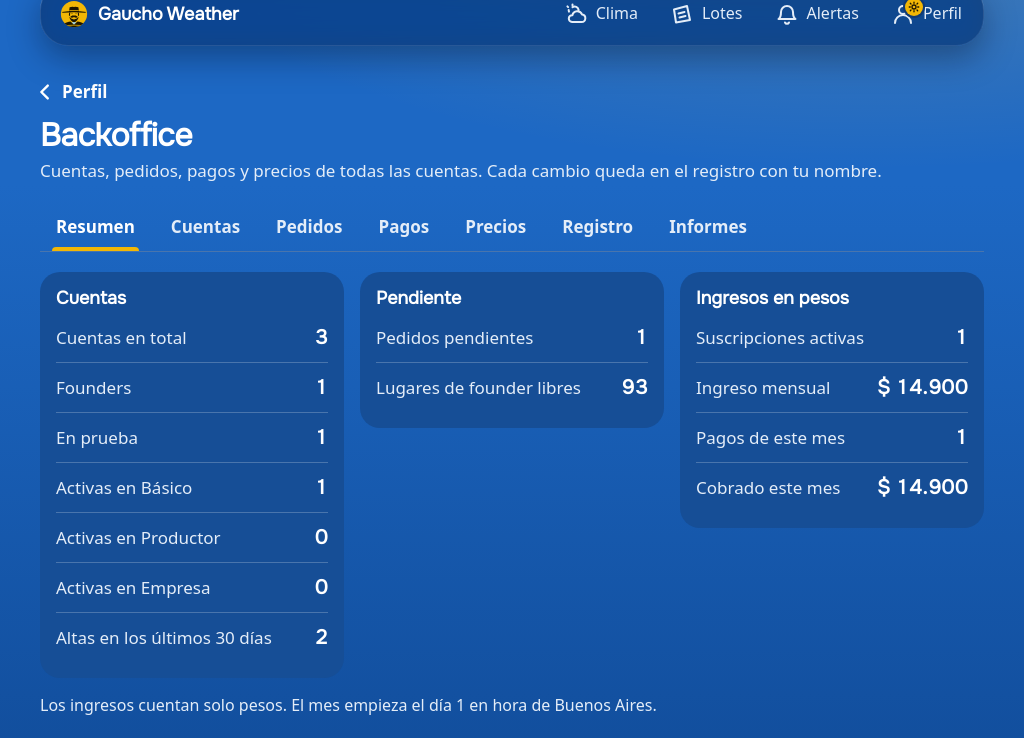
Scheduled price changes (avisos-cambios S4) › keeps the dialog open with the API message for a date too soon
Click the tab "Precios" at [496, 227], box top-left (449, 203), bottom-right (542, 251)
(page scrolled)
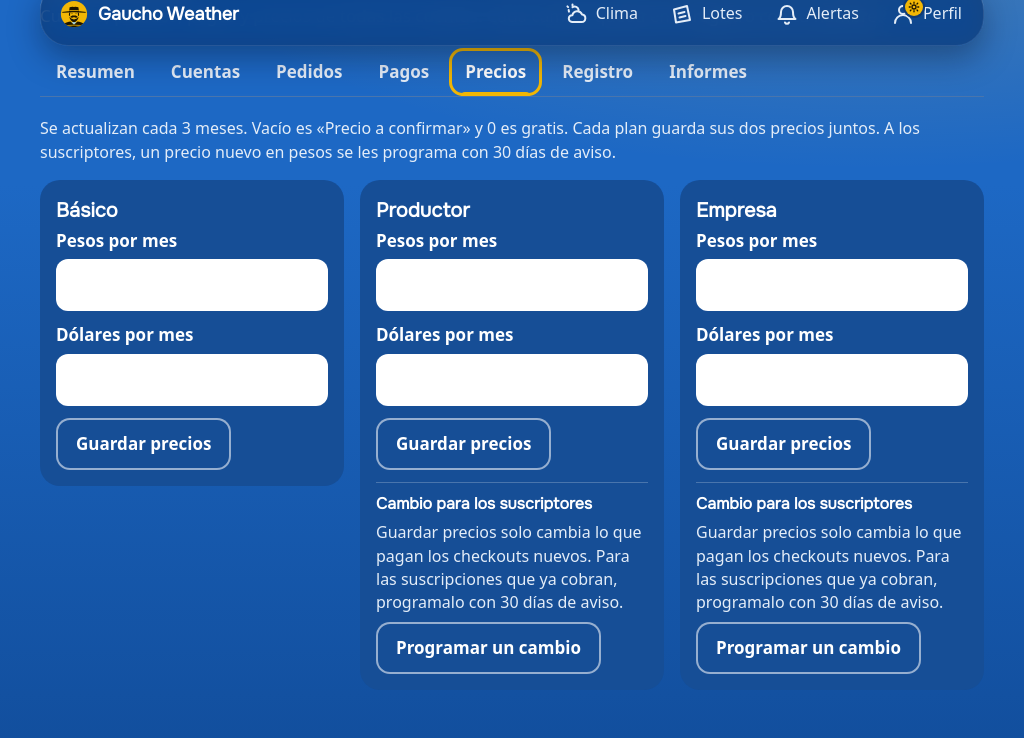
Click the 1st button "Programar un cambio" at [488, 648], box top-left (376, 622), bottom-right (601, 674)
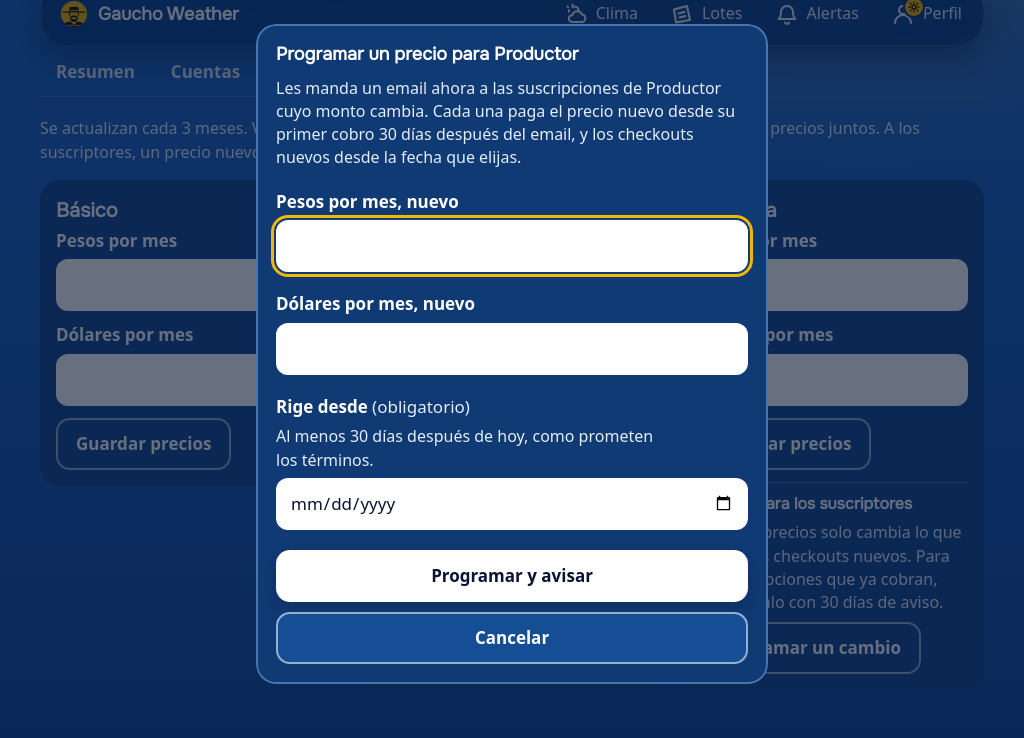
Type "16900" into the field labelled "Pesos por mes, nuevo" at [512, 246], box top-left (276, 220), bottom-right (748, 272)
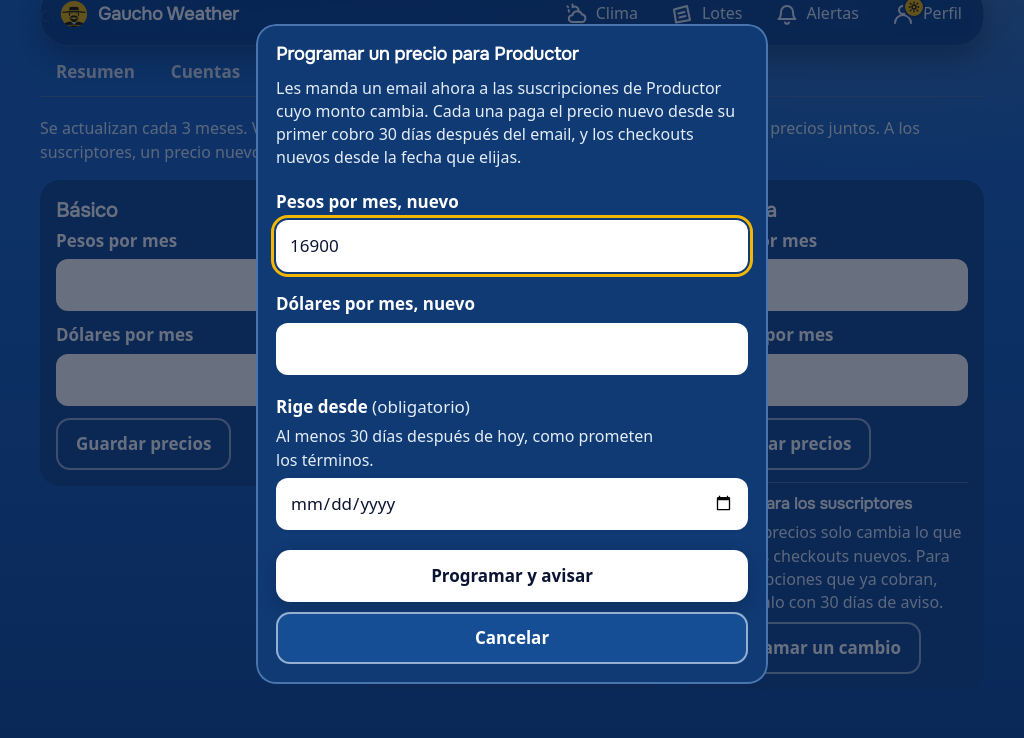
Type "12" into the field labelled "Dólares por mes, nuevo" at [512, 349], box top-left (276, 323), bottom-right (748, 375)
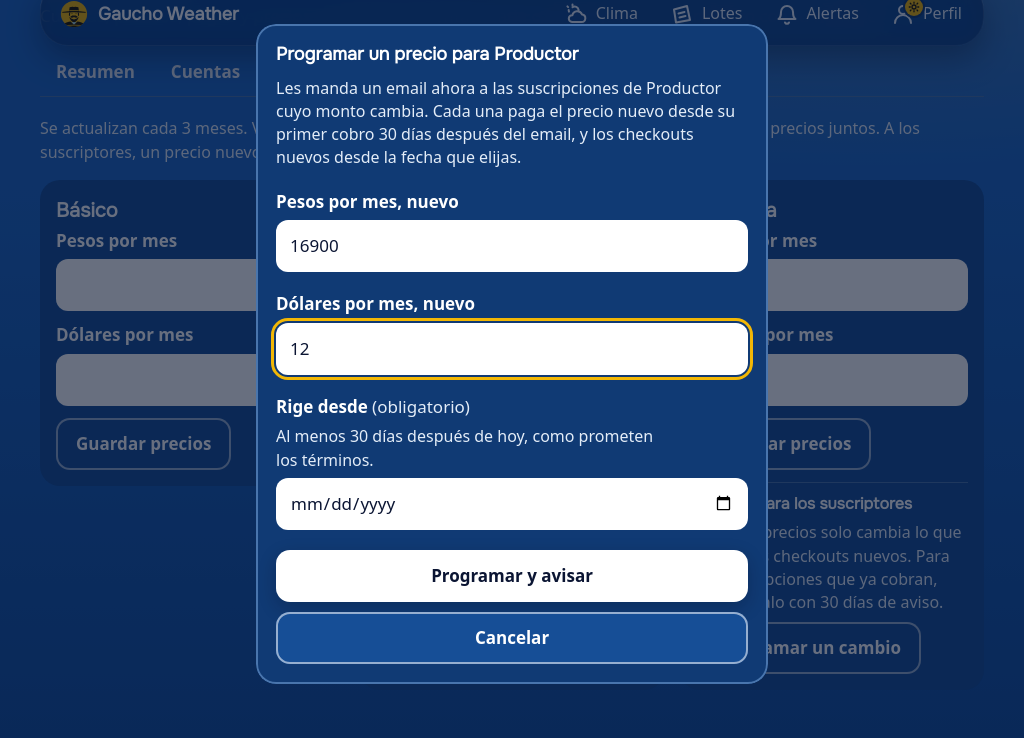
Type "2020-01-01" into the date field labelled "Rige desde (obligatorio)" at [512, 504], box top-left (276, 478), bottom-right (748, 530)
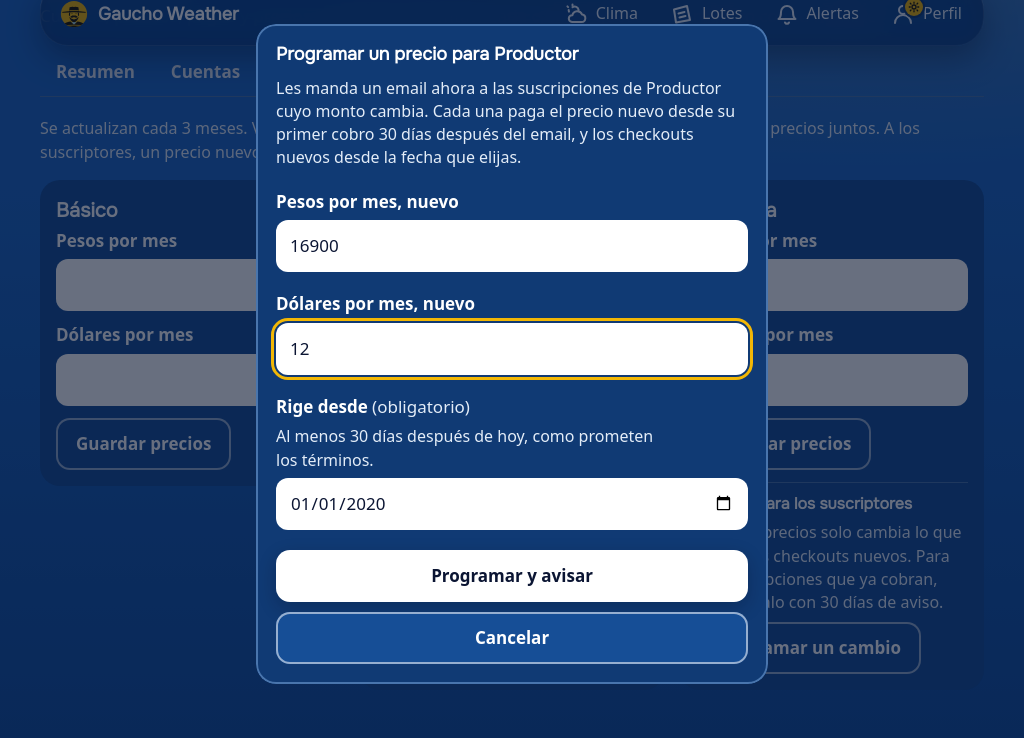
Click the button "Programar y avisar" at [512, 576], box top-left (276, 550), bottom-right (748, 602)
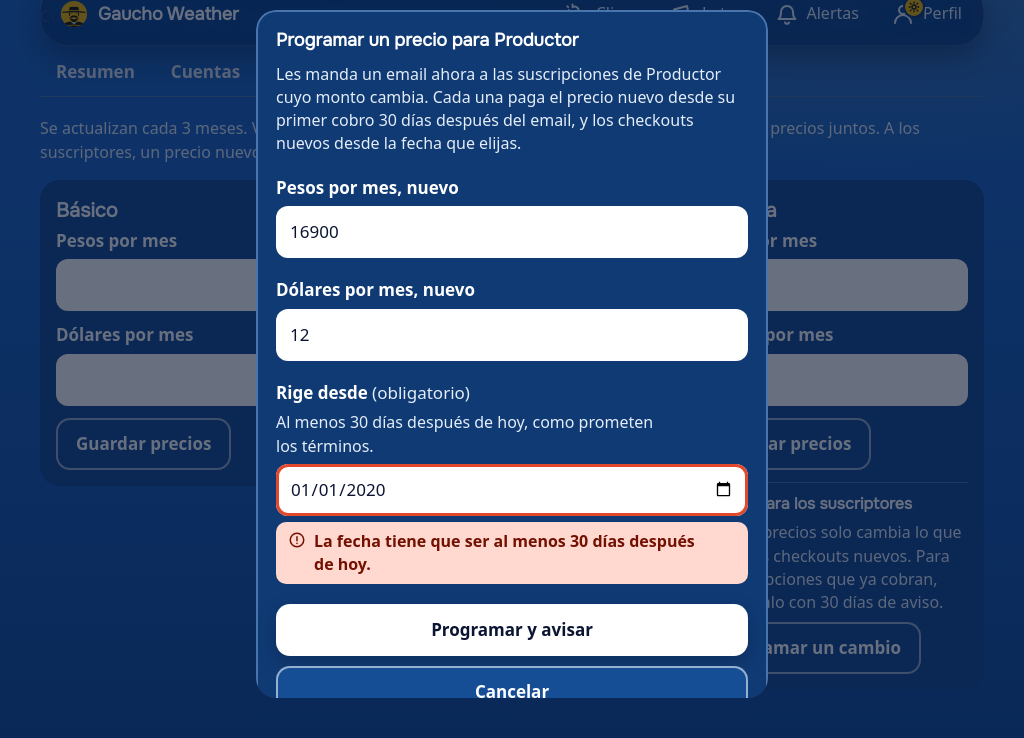
Result: the text "La fecha tiene que ser al menos 30 días después de hoy." is shown at top-left (276, 522), bottom-right (748, 584)
